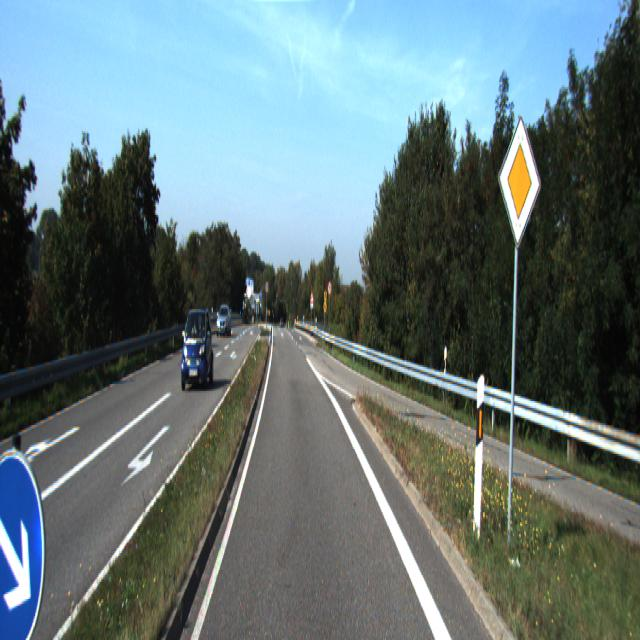Car: (179, 306, 214, 390), (215, 306, 232, 339)
